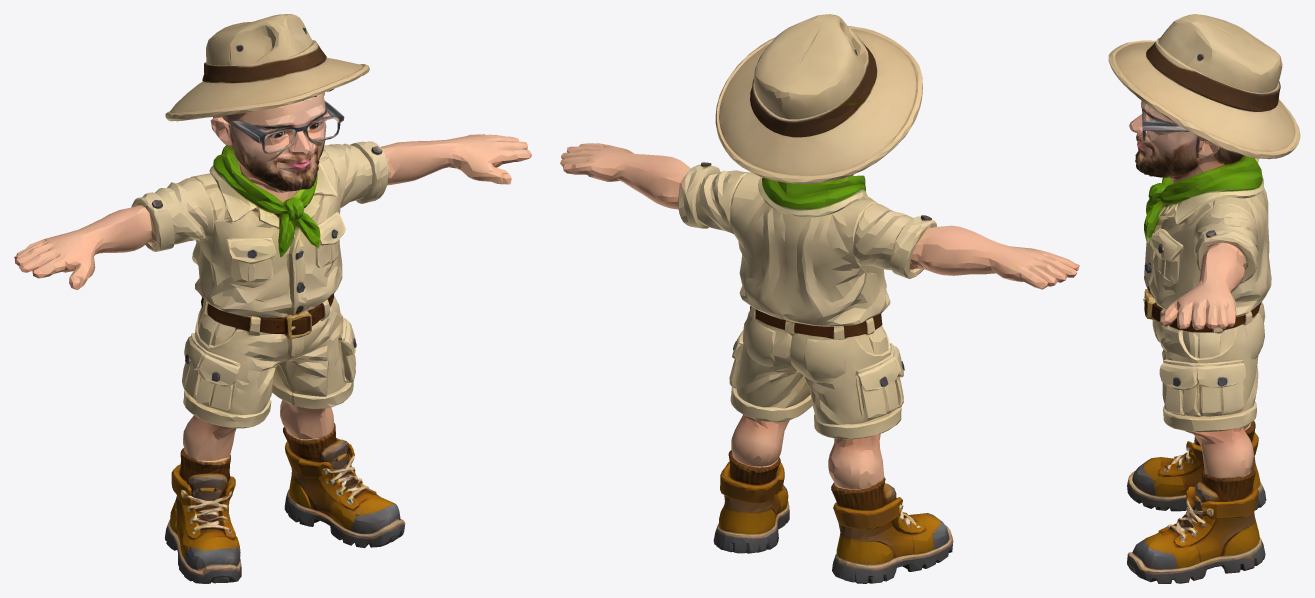
The model's file is keeper.glb.
3 renders of one model, left to right at view 1: azimuth 30°, elevation 25°; view 2: azimuth 150°, elevation 25°; view 3: azimuth 270°, elevation 25°, orthographic. The views are drawn at different scales.
Visible parts, largest first — view 1: model; view 2: model; view 3: model.
Part boxes in pixels (x1,y1,x2,y2): model: (14, 14, 531, 583); model: (560, 14, 1079, 583); model: (1108, 14, 1300, 583).
Bounding box in the file's own units: 1.9 × 1.89 × 0.6357.
Materials: 1 (1 with a texture image).
